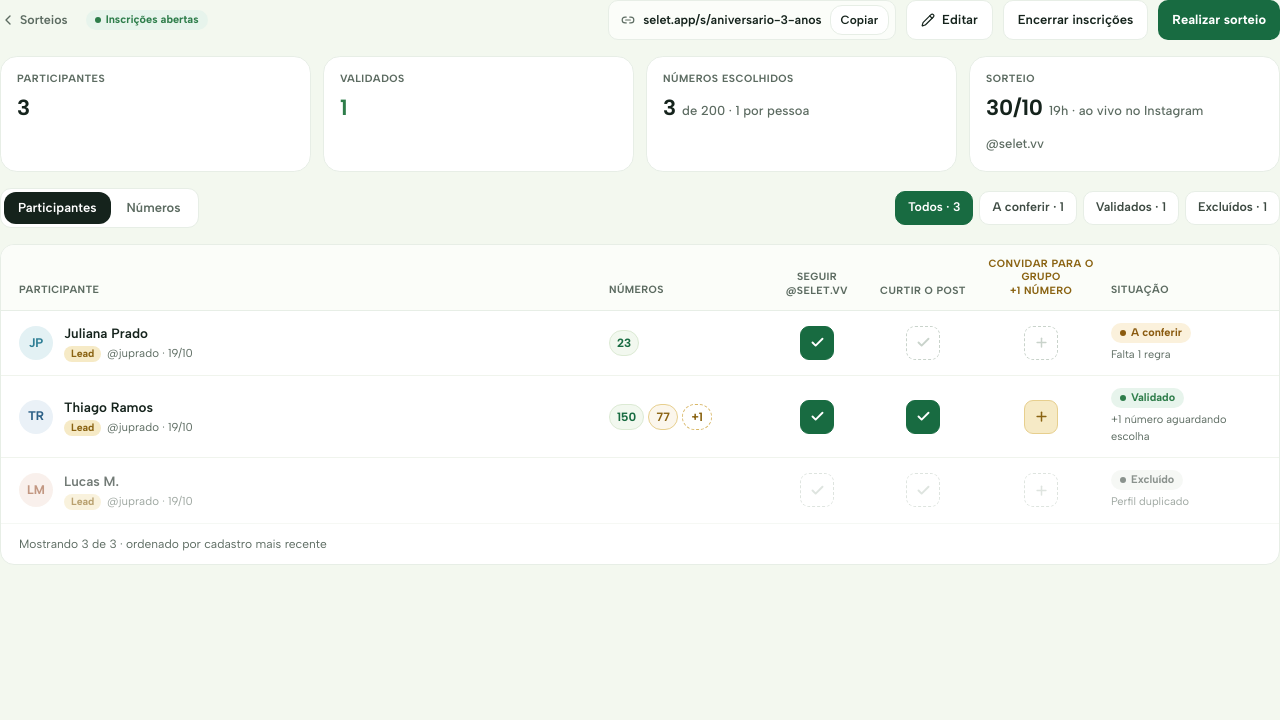
RaffleDetailClient › with WhatsApp sending, the automatic notices are offered
Click the button "Realizar sorteio": (1219, 20) x1=1158 y1=0 x2=1279 y2=40
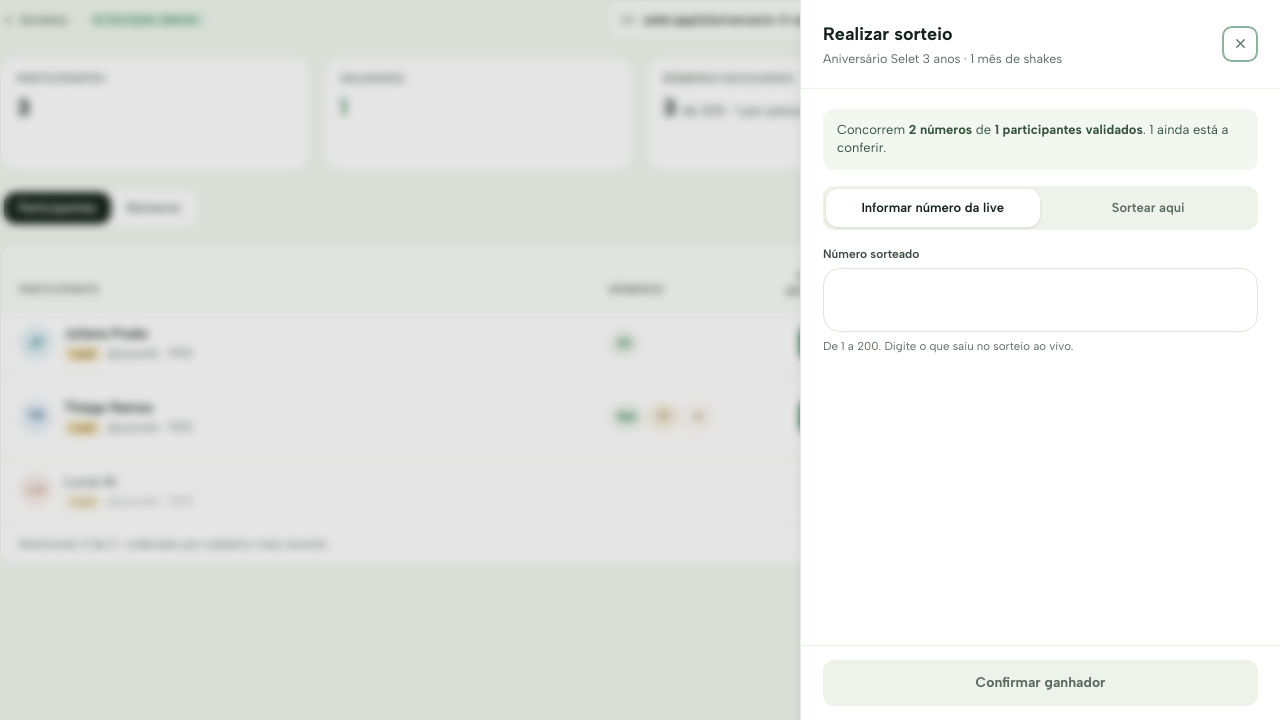
In the field labelled "Número sorteado": (1040, 300) x1=823 y1=268 x2=1258 y2=332, type "150"
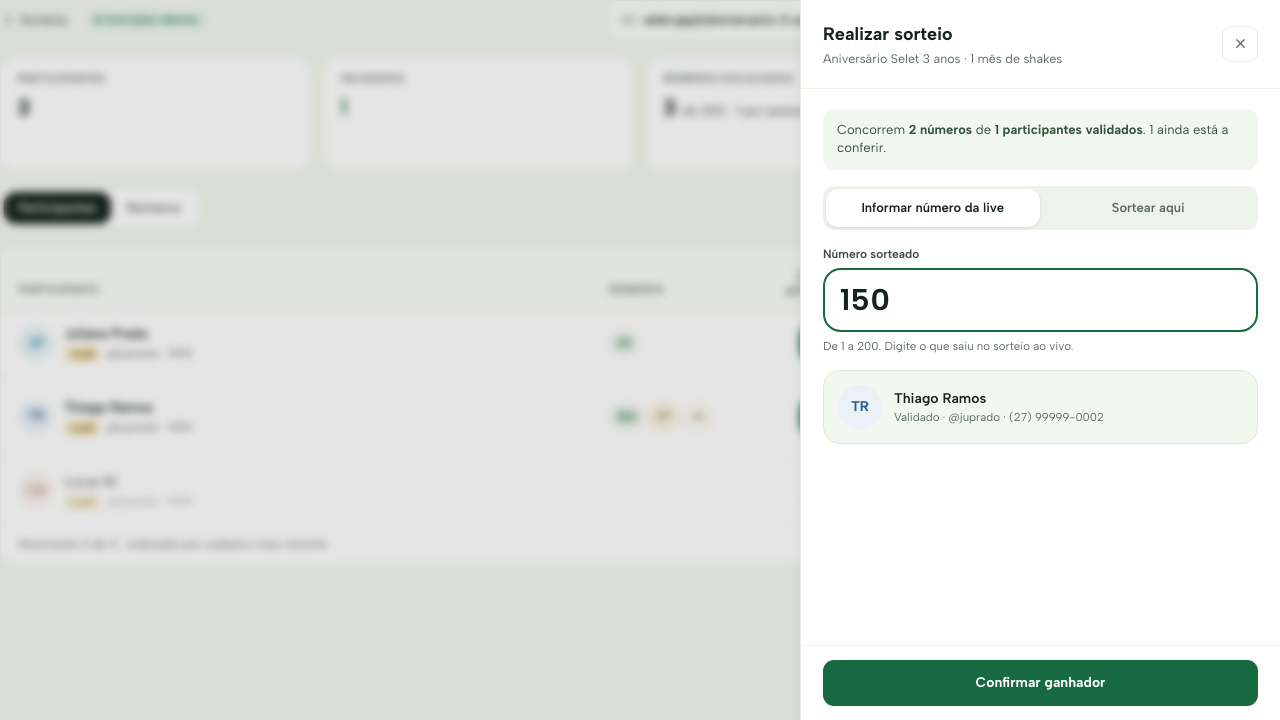
Click the button "Confirmar ganhador": (1040, 683) x1=823 y1=660 x2=1258 y2=706
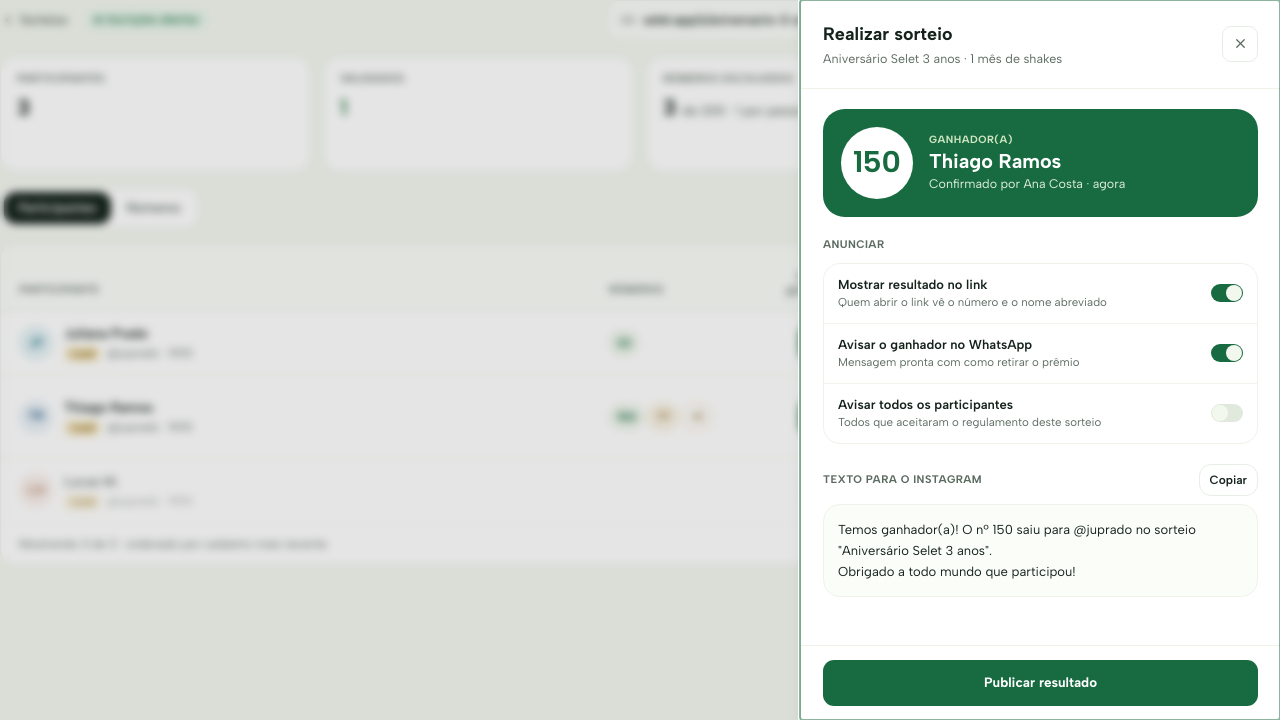
expect the switch named "Avisar o ganhador no WhatsApp" is shown: met, box x1=1211 y1=344 x2=1243 y2=362
